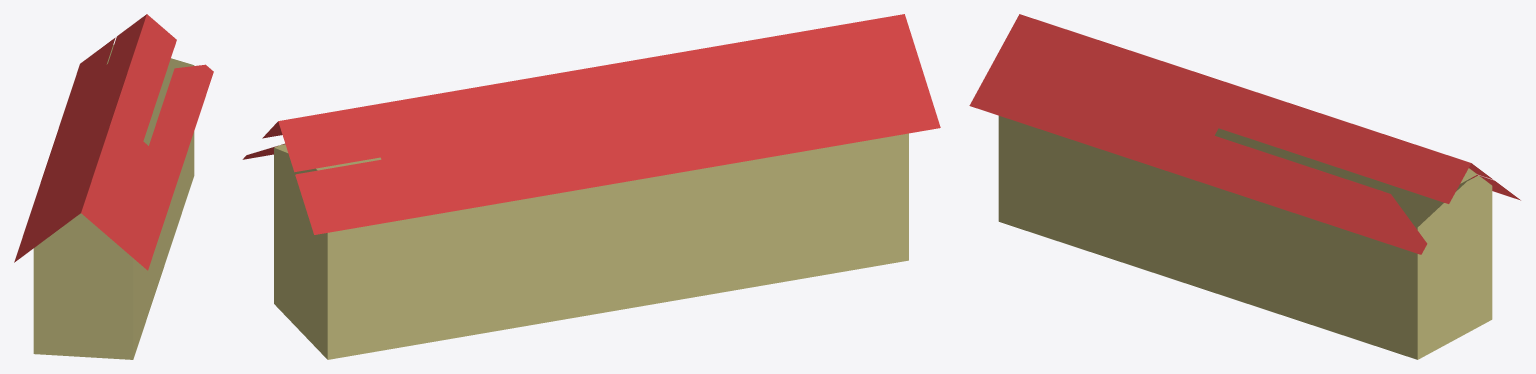
3 views of the same model, side by side, from view 1: azimuth 30°, elevation 25°; view 2: azimuth 150°, elevation 25°; view 3: azimuth 270°, elevation 25° (orthographic). The views are drawn at different scales.
Bounding box in the file's own units: 34.8 × 39.94 × 14.53.
